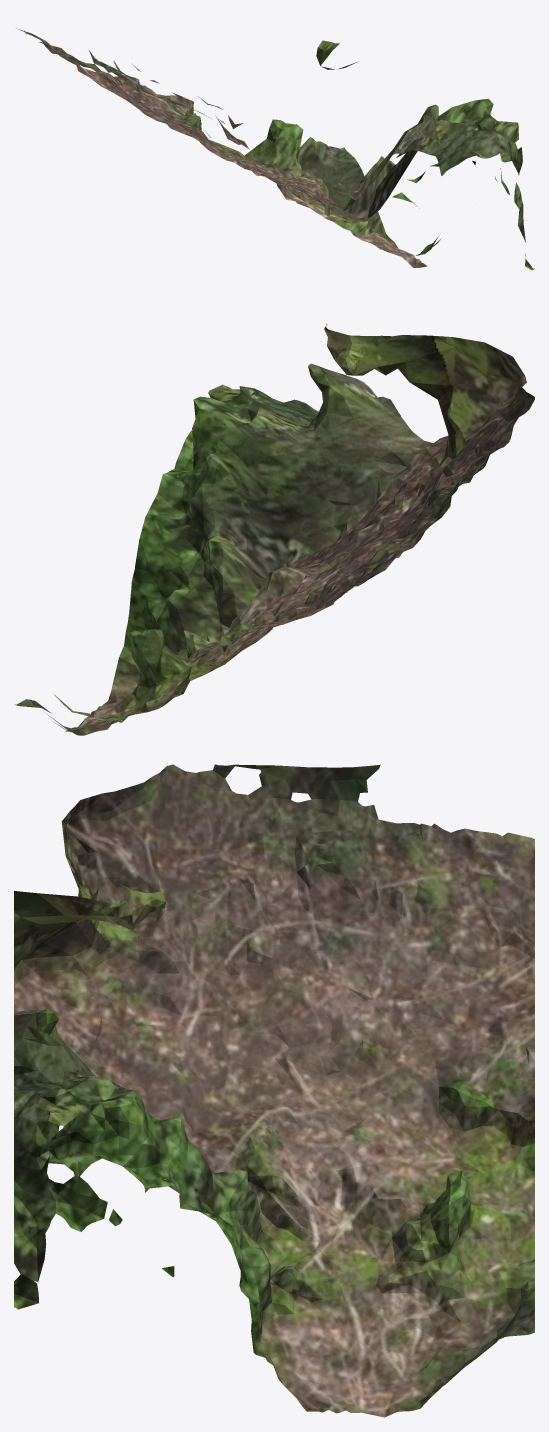
3 views of the same model, one above another, from view 1: azimuth 30°, elevation 25°; view 2: azimuth 150°, elevation 25°; view 3: azimuth 270°, elevation 25° (orthographic). The views are drawn at different scales.
Size of the model in its own units: 2.95 by 2.7 by 2.95.
4 materials, 4 textured.
